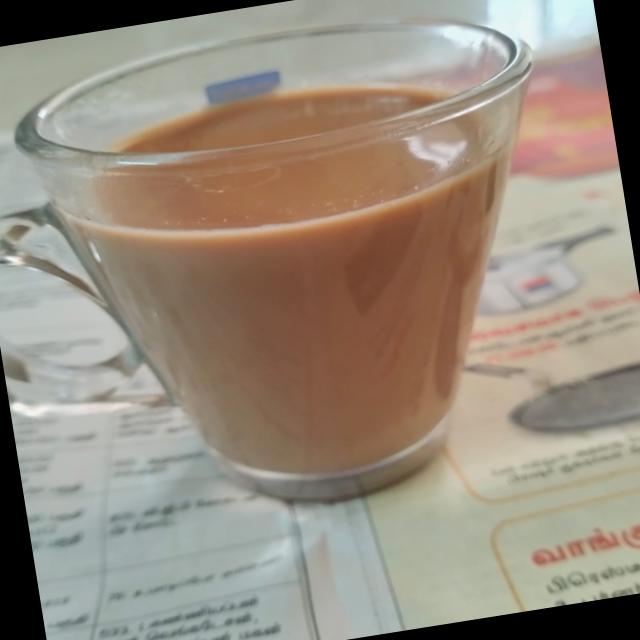glass-VX4N: (0, 0, 600, 550)
